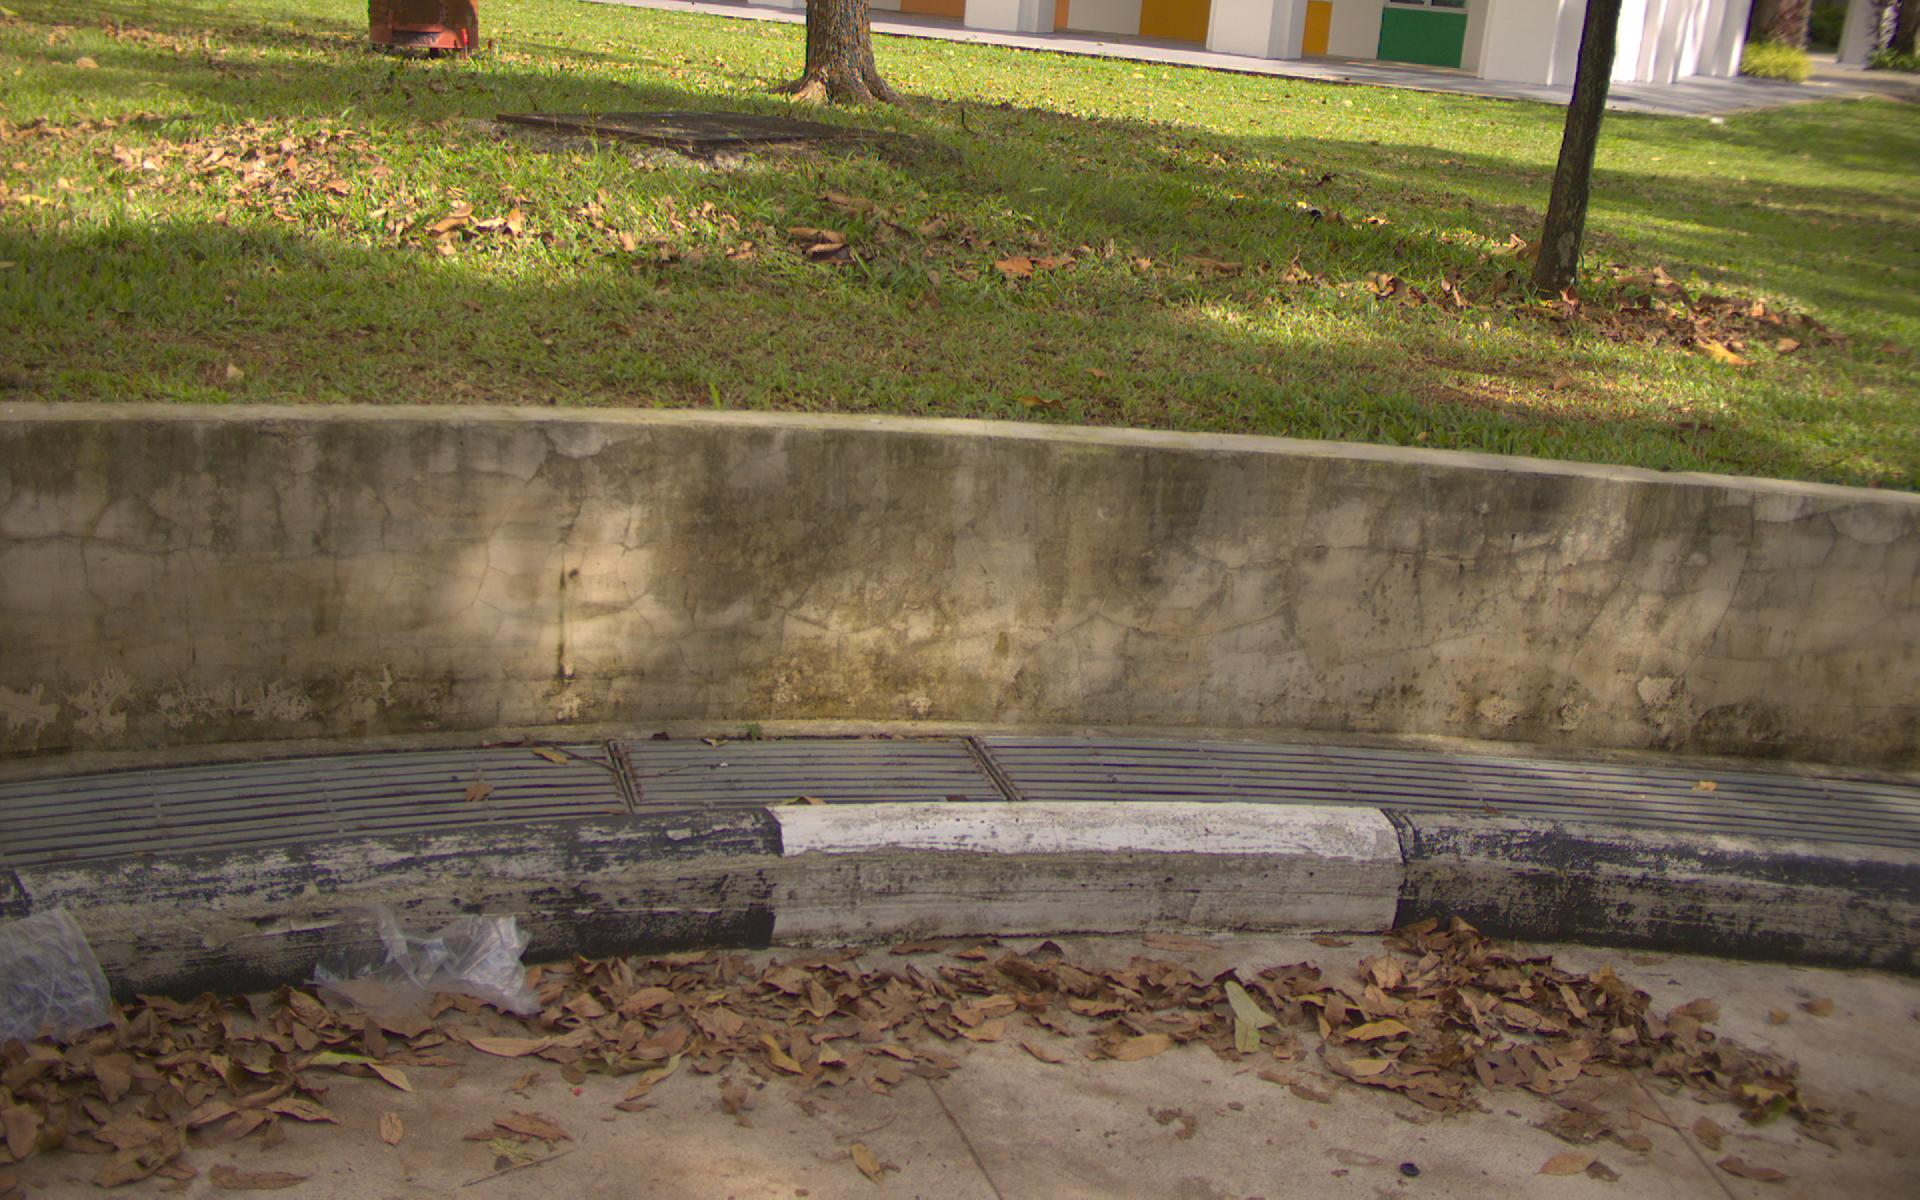curb_dic_low: (73, 124, 1920, 400), (312, 727, 1920, 841)
road_curb_medium: (326, 958, 1913, 1172)
